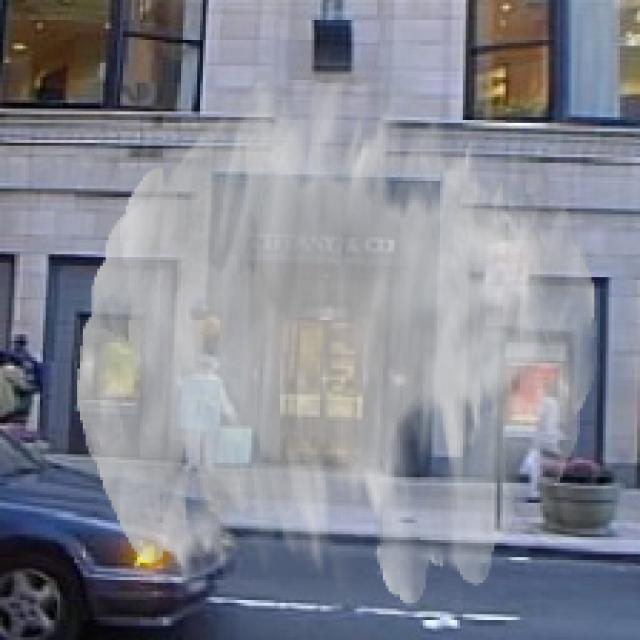smoke: (77, 69, 597, 606)
